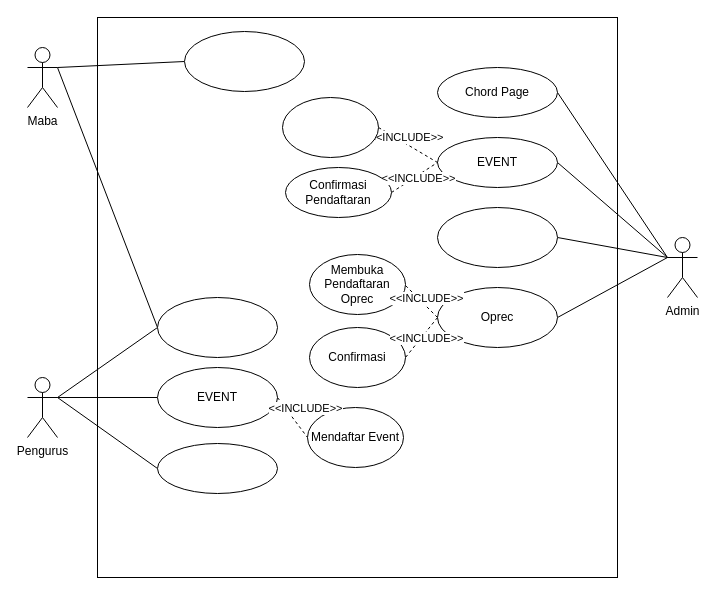
Some shapes in this 717 by 595 pixel diagram are drawn without their labels. The shapes that lost their labels are listed below. From the top down, each one's centre as x and y in pixels, then its label:
At point (244, 61): "Mendaftar OPREC SEBURA".
At point (330, 127): "Membuka Pendaftaran Event".
At point (497, 237): "Melihat absen Pengurus".
At point (217, 327): "Melihat Info SEBURA".
At point (217, 468): "Absen".
